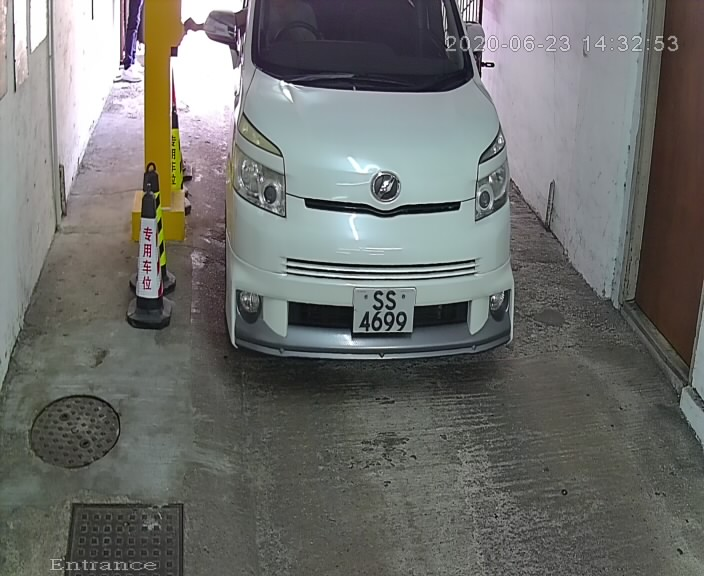privatecar: (189, 2, 525, 370)
